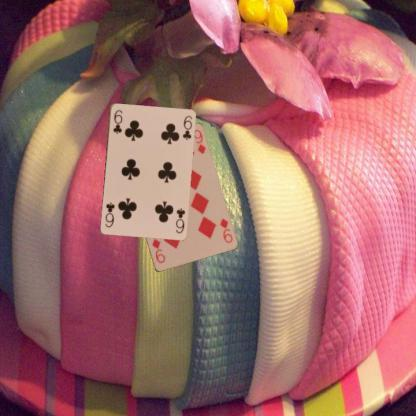6c: (110, 107, 124, 136), (172, 205, 186, 234)
9d: (216, 215, 234, 244)
